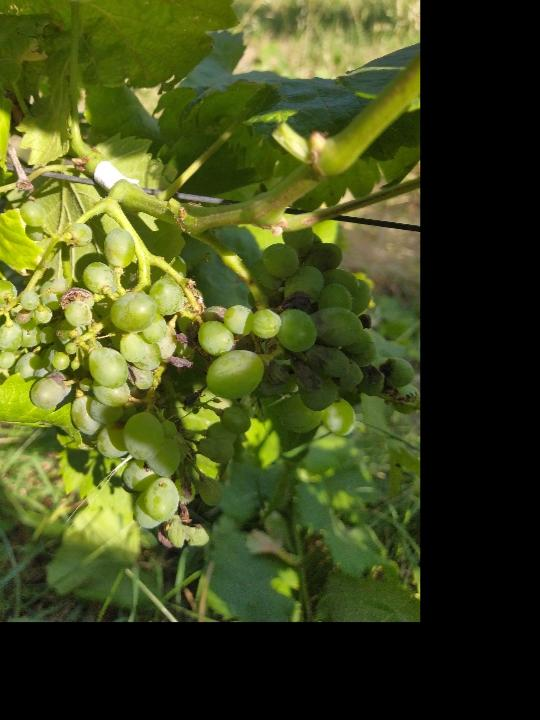grape: (0, 200, 413, 556)
